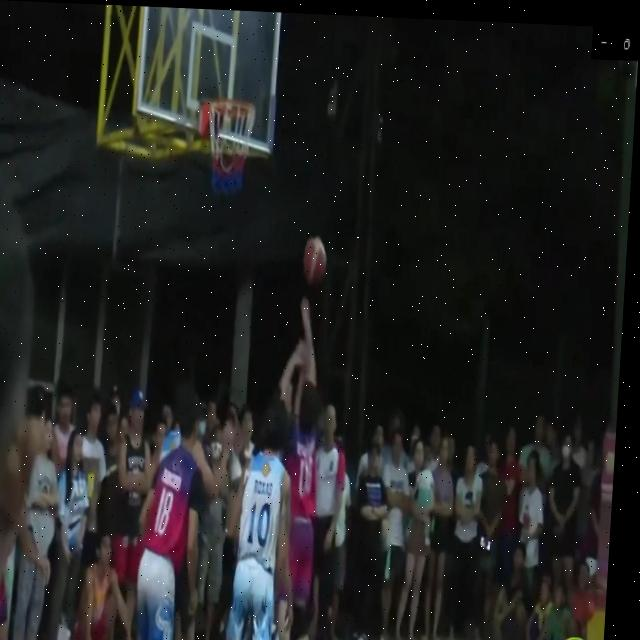basketball: (300, 232, 329, 290)
hoop: (202, 96, 256, 203)
